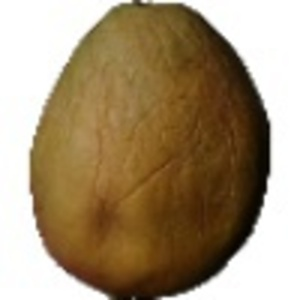mamão: (20, 3, 273, 298)
